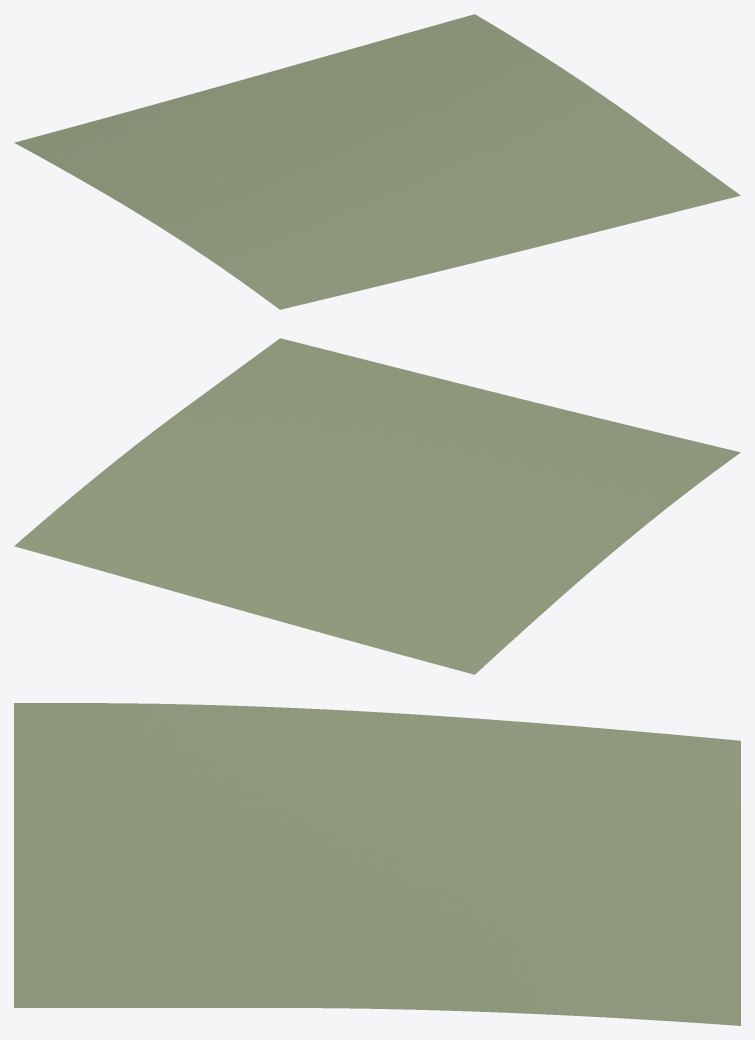
The model's file is desert-8-27.glb.
3 views of the same model, one above another, from view 1: azimuth 30°, elevation 25°; view 2: azimuth 150°, elevation 25°; view 3: azimuth 270°, elevation 25° (orthographic). The views are drawn at different scales.
Visible parts, largest first — view 1: desert-8-27; view 2: desert-8-27; view 3: desert-8-27.
Part boxes in pixels (x1,y1,x2,y2): desert-8-27: [14, 14, 740, 309]; desert-8-27: [14, 338, 740, 674]; desert-8-27: [14, 703, 740, 1025].
Size of the model in its own units: 512 by 31.22 by 512.
